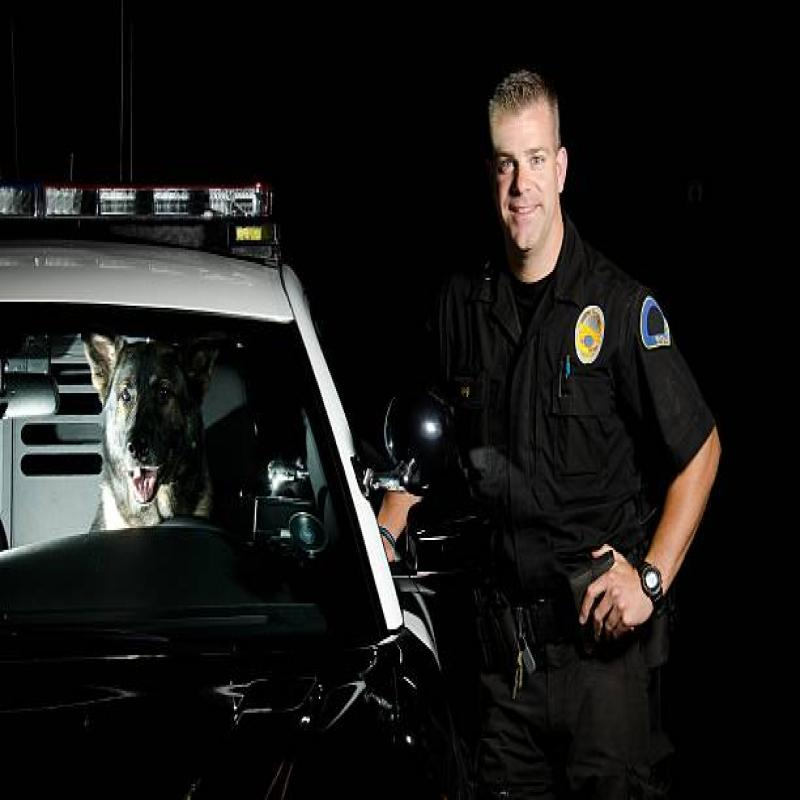AmbulanceSiren: (0, 150, 276, 255)
